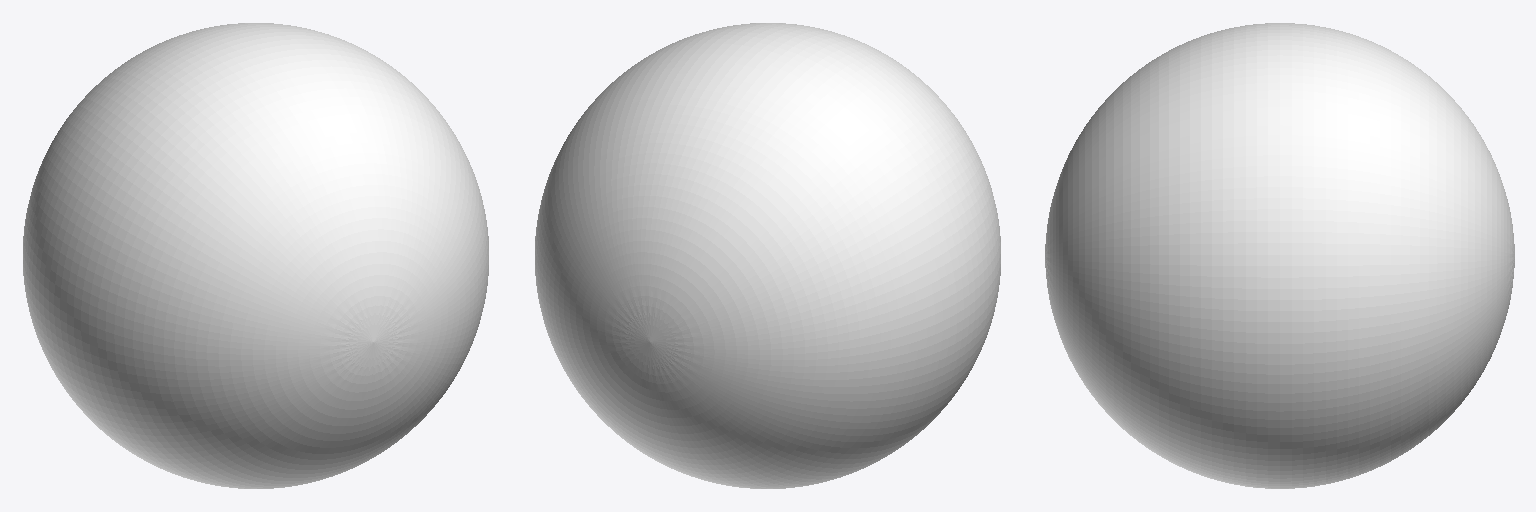
Rendered from venus.obj.
3 views of the same model, side by side, from view 1: azimuth 30°, elevation 25°; view 2: azimuth 150°, elevation 25°; view 3: azimuth 270°, elevation 25° (orthographic).
Parts seen in each view (by area): view 1: Venus; view 2: Venus; view 3: Venus.
Boxes of the visible parts, box(x1,y1,x2,y2) form: Venus: box(23, 23, 488, 488); Venus: box(535, 23, 1000, 488); Venus: box(1045, 23, 1514, 488).
Bounding box in the file's own units: 977 × 977 × 988.